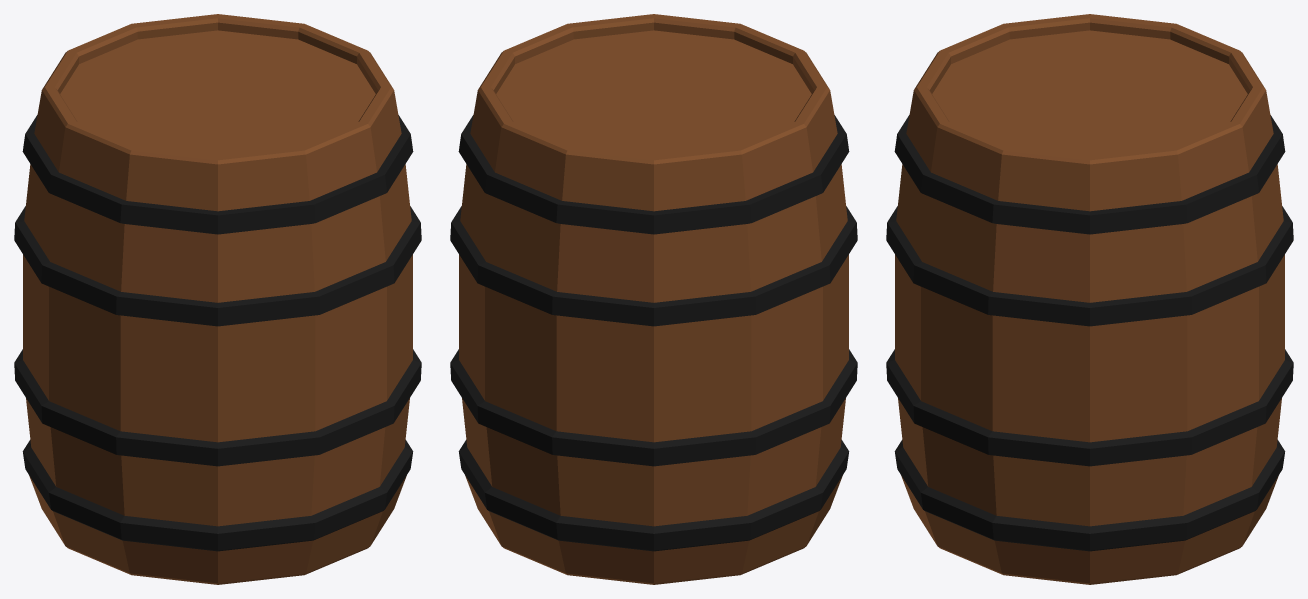
The model's file is ww_barrel_a.glb.
3 views of the same model, side by side, from view 1: azimuth 30°, elevation 25°; view 2: azimuth 150°, elevation 25°; view 3: azimuth 270°, elevation 25° (orthographic).
Parts seen in each view (by area): view 1: Barrel_A; view 2: Barrel_A; view 3: Barrel_A.
Boxes of the visible parts, x1,y1,x2,y2 form: Barrel_A: (14,14,421,584); Barrel_A: (450,14,857,584); Barrel_A: (886,14,1293,584).
Size of the model in its own units: 0.87 by 1 by 0.87.
